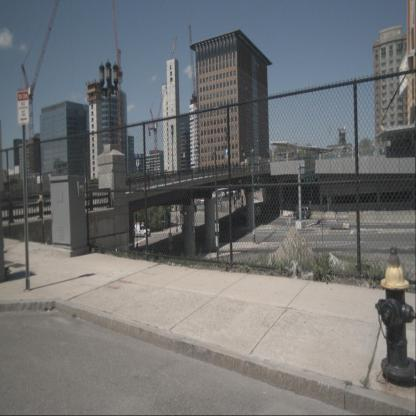vehicle-car: (292, 206, 312, 220), (132, 224, 152, 237)
